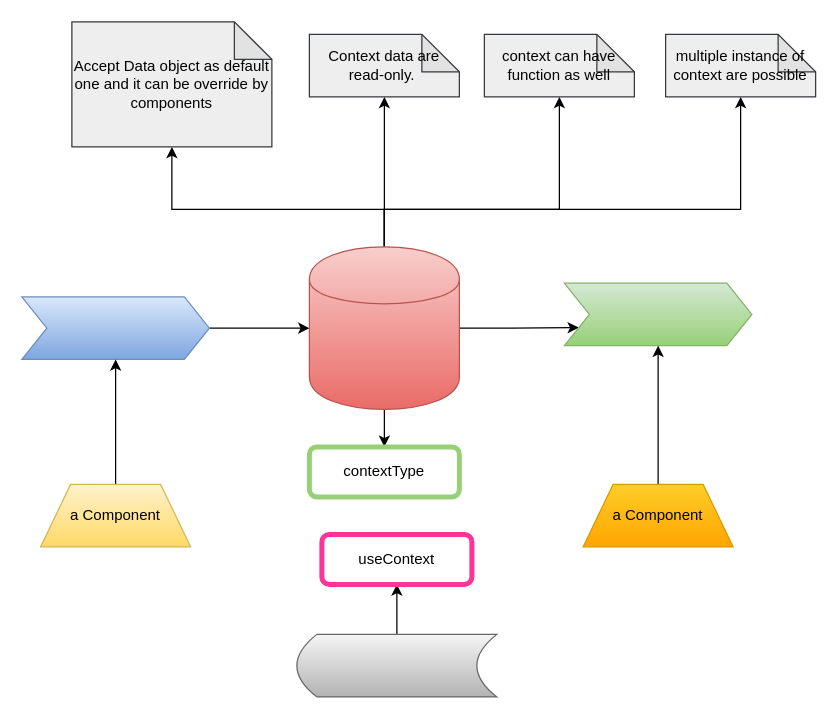
Image size: 838x719. Some labels were removed from this diagram. The shapes that lost their labels are listed below. From the top down, each one's centre as x and y in pixels, then its label:
point 115,327: <context>.Provider
point 383,327: Context , is alternative to "props" and opt for complex application
point 657,314: <context>.Consumer
point 396,665: work with Hooks for functional component
